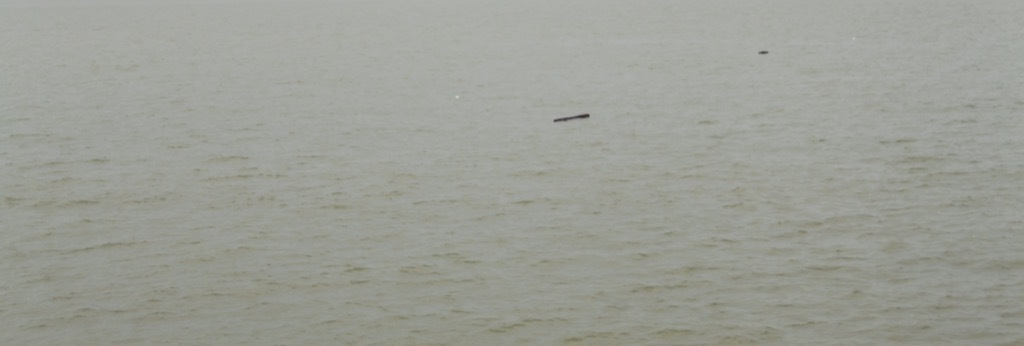organic: (548, 107, 595, 128), (752, 45, 775, 60)
plastic: (446, 85, 466, 107)
